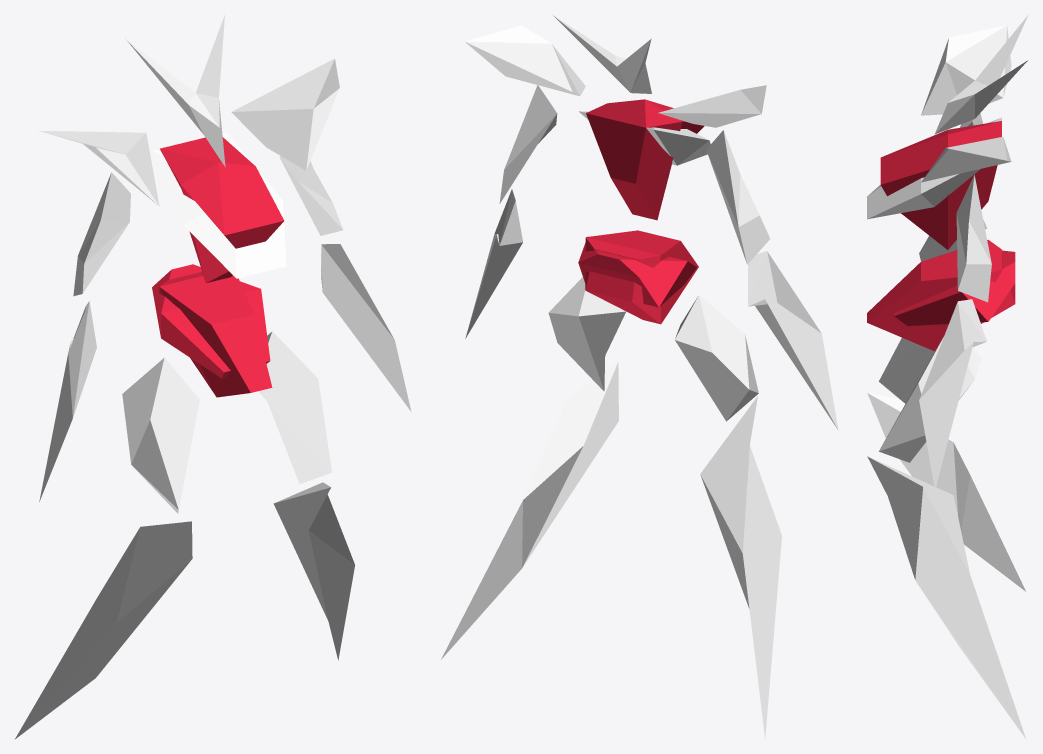
File: enemy1.gltf
3 views of the same model, side by side, from view 1: azimuth 30°, elevation 25°; view 2: azimuth 150°, elevation 25°; view 3: azimuth 270°, elevation 25° (orthographic). The views are drawn at different scales.
Parts seen in each view (by area): view 1: kneeL, thighL, pelvis3, kneeR, chest1, shoulderR, thighR, forearmR, clavicle, pyramid, armL, shoulderL (+5 smaller); view 2: kneeL, kneeR, chest2, thighL, forearmL, thighR, shoulderR, armL, pelvis2, pelvis4, shoulderL, forearmR (+4 smaller); view 3: kneeR, kneeL, forearmR, pelvis3, shoulderL, chest1, armR, pyramid, thighR, clavicle, chest2, shoulderR (+5 smaller).
Boxes of the visible parts, x1,y1,x2,y2 form: kneeL: [15, 521, 192, 739]; thighL: [122, 357, 199, 513]; pelvis3: [159, 275, 272, 397]; kneeR: [273, 482, 354, 660]; chest1: [181, 162, 284, 282]; shoulderR: [231, 58, 339, 170]; thighR: [258, 331, 331, 483]; forearmR: [321, 244, 411, 411]; clavicle: [152, 132, 286, 278]; pyramid: [126, 15, 225, 167]; armL: [73, 172, 130, 296]; shoulderL: [38, 130, 159, 206]; kneeL: [700, 396, 781, 739]; kneeR: [441, 362, 618, 659]; chest2: [586, 99, 682, 220]; thighL: [675, 295, 758, 421]; forearmL: [748, 251, 838, 430]; thighR: [548, 277, 626, 391]; shoulderR: [464, 25, 585, 96]; armL: [706, 130, 770, 264]; pelvis2: [578, 236, 687, 307]; pelvis4: [585, 237, 660, 324]; shoulderL: [658, 85, 766, 127]; forearmR: [465, 189, 522, 338]; kneeR: [867, 456, 1026, 739]; kneeL: [867, 393, 1025, 591]; forearmR: [919, 299, 986, 489]; pelvis3: [867, 240, 988, 351]; shoulderL: [921, 25, 1011, 115]; chest1: [880, 130, 947, 249]; armR: [956, 174, 991, 302]; pyramid: [935, 14, 1028, 134]; thighR: [879, 335, 981, 462]; clavicle: [867, 117, 1001, 219]; chest2: [948, 121, 1001, 249]; shoulderR: [921, 137, 1011, 182].
Size of the model in its own units: 1.86 by 3.22 by 0.75.
Materials: 6 (1 with a texture image).
